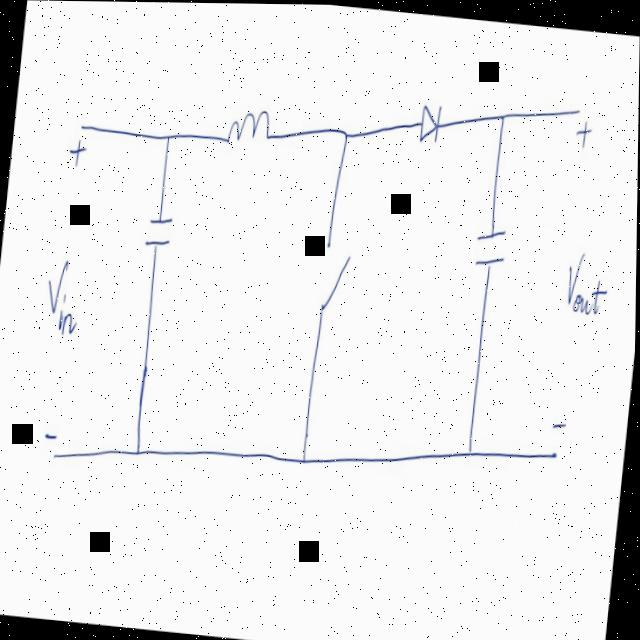capacitor: (467, 208, 514, 286), (139, 201, 179, 263)
diode: (405, 83, 459, 174)
inductor: (213, 97, 300, 181)
switch: (304, 204, 359, 341)
